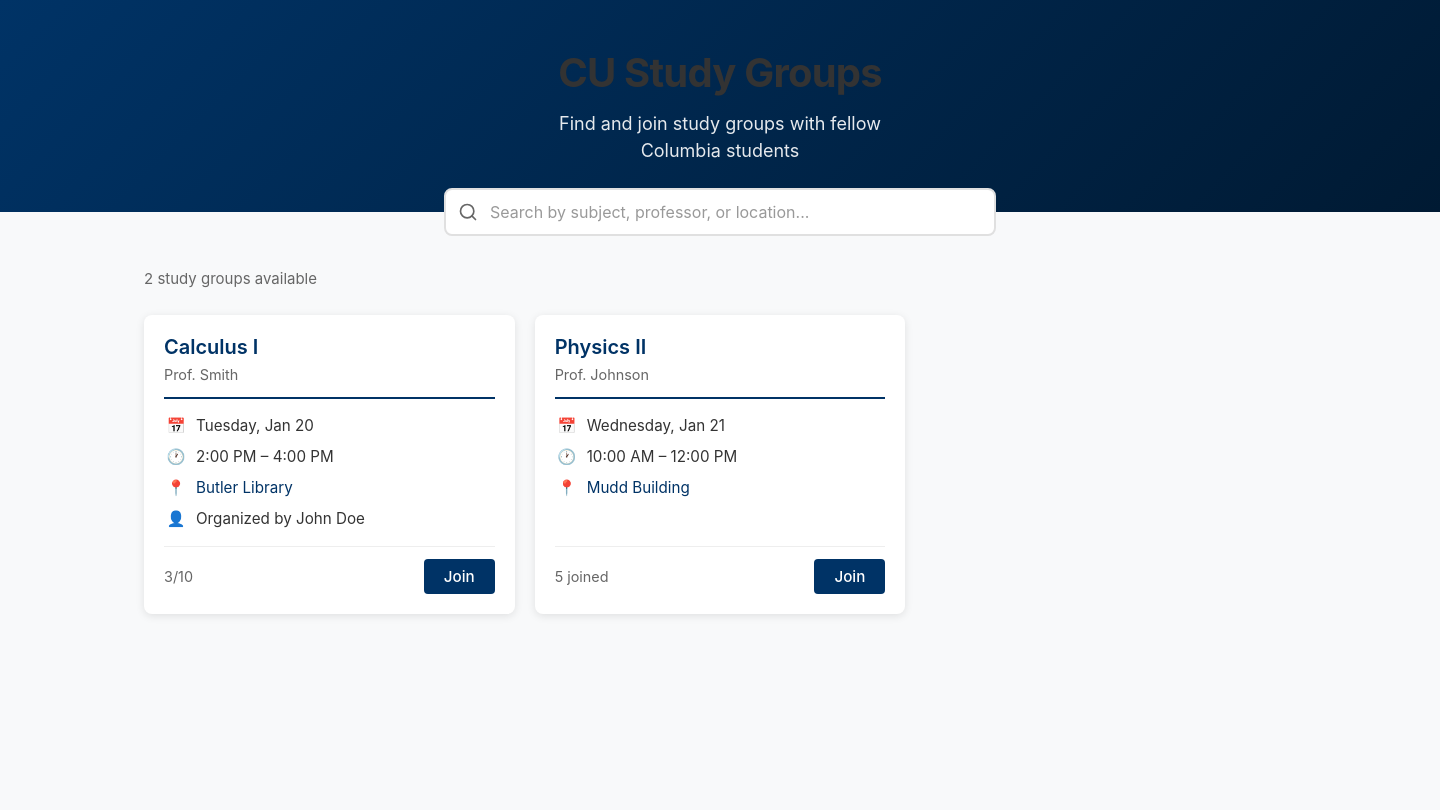
Test: HomePage › closes join modal on cancel
This screenshot has width=1440, height=810.
What coordinates should you click on to do the following:
click the button "Join" in the row of "3/10"
I would click on:
 (459, 577)
Its box is top-left (424, 559), bottom-right (495, 594).
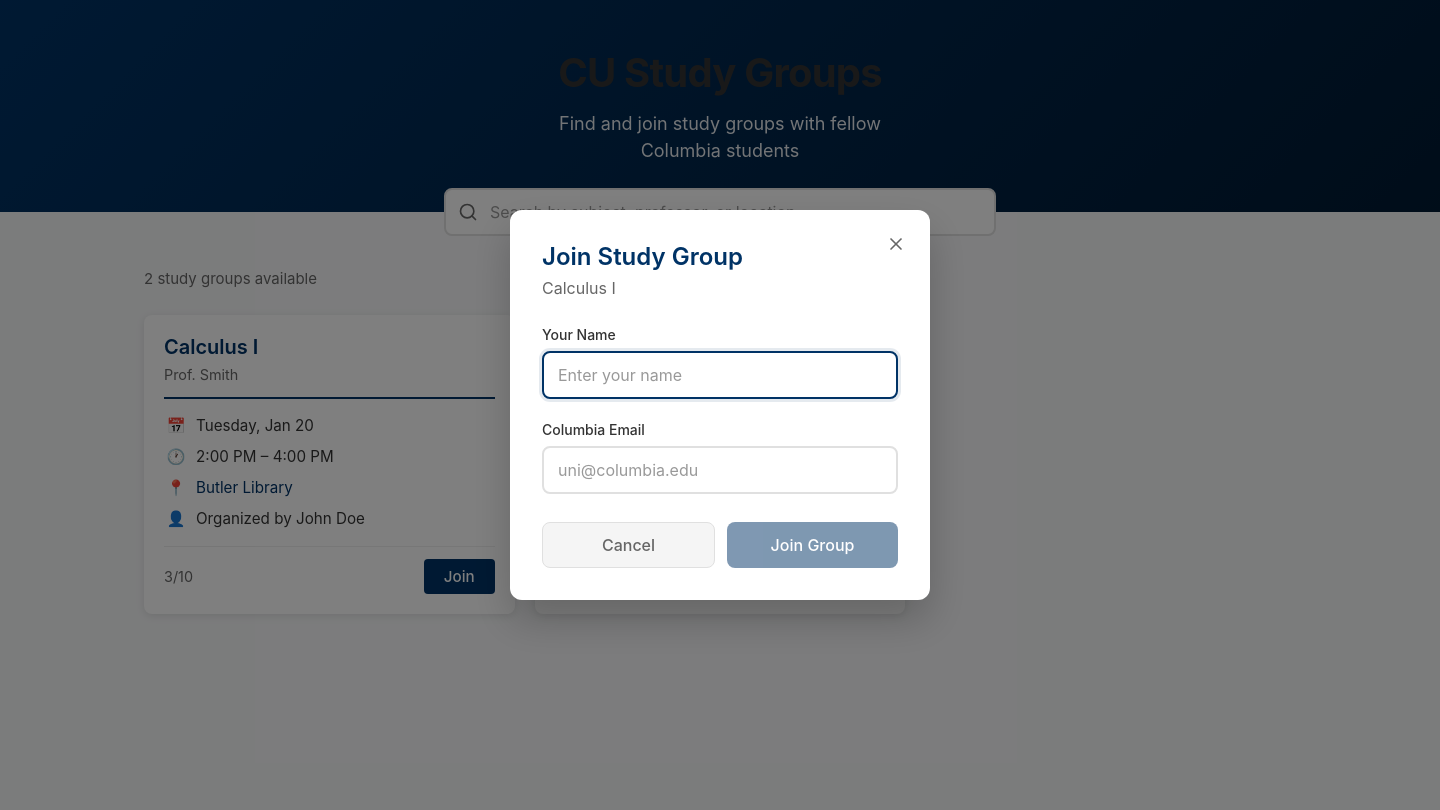
Result: the dialog is shown
What coordinates should you click on to do the following:
click the button "Cancel"
I would click on:
 (628, 545)
Its box is top-left (542, 522), bottom-right (715, 568).
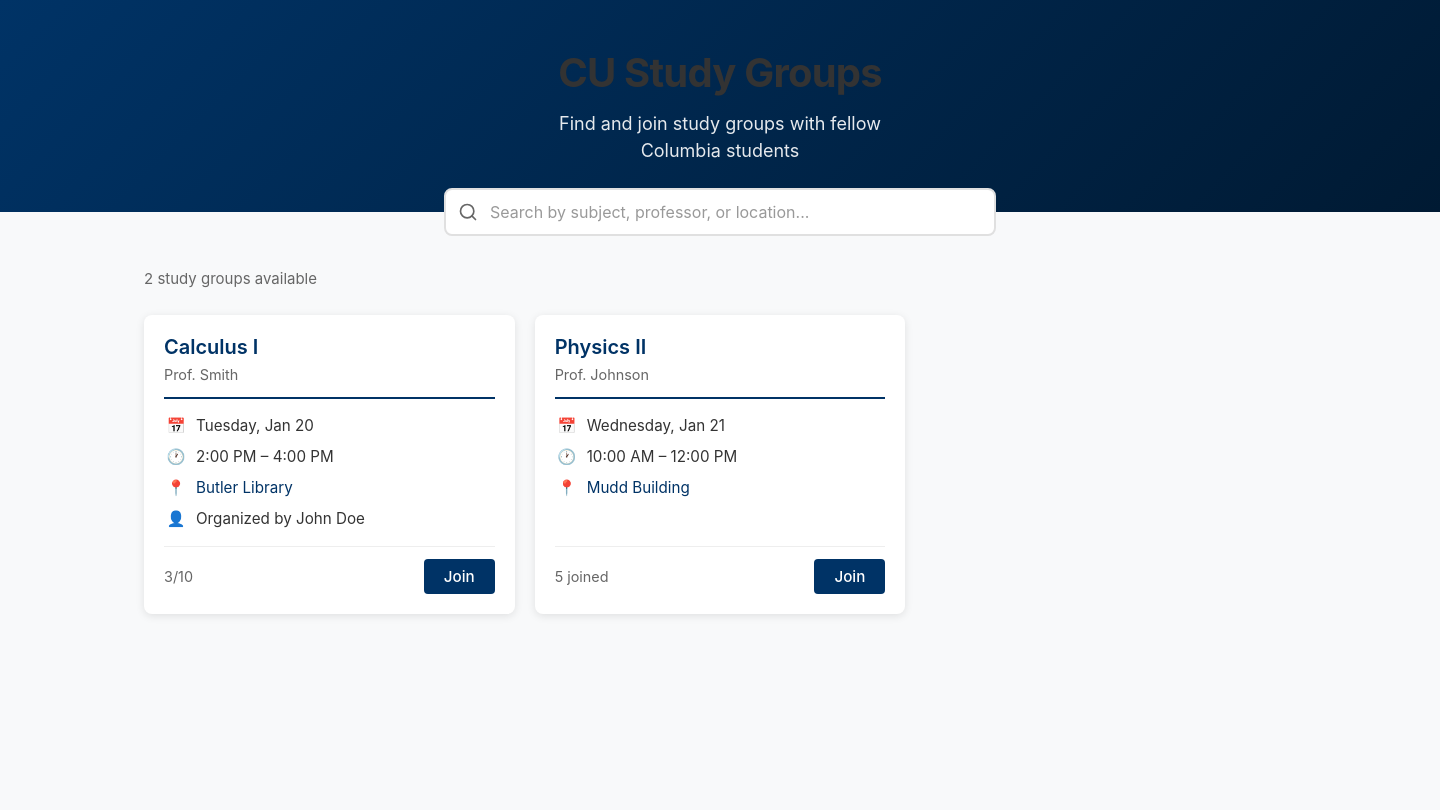
Result: the dialog is gone
